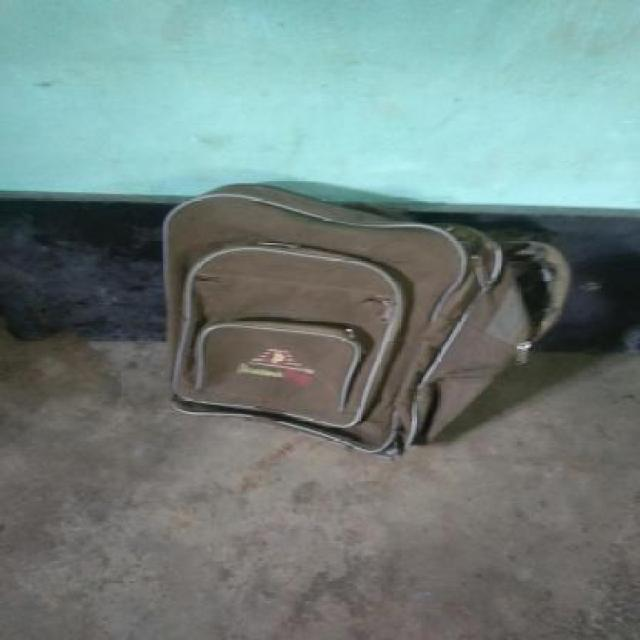backpack: (155, 180, 577, 465)
